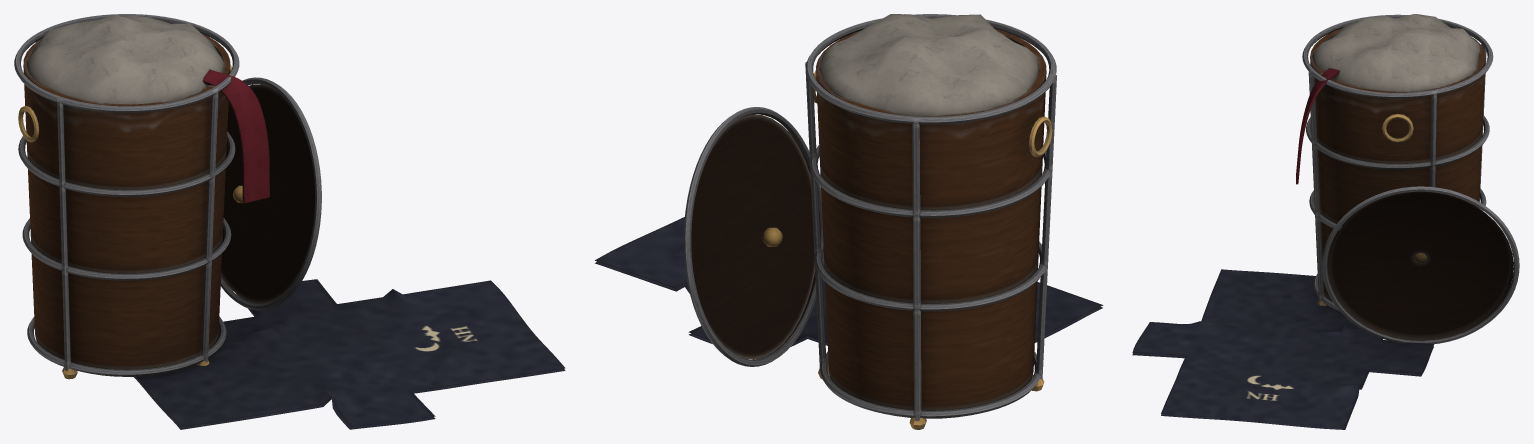
File: LaundryHamper.fbx
3 renders of one model, left to right at view 1: azimuth 30°, elevation 25°; view 2: azimuth 150°, elevation 25°; view 3: azimuth 270°, elevation 25°, orthographic. The views are drawn at different scales.
Parts seen in each view (by area): view 1: LaundryHamper; view 2: LaundryHamper; view 3: LaundryHamper.
Boxes of the visible parts, <box> form: LaundryHamper: <box>14,14,565,429</box>; LaundryHamper: <box>595,14,1103,429</box>; LaundryHamper: <box>1132,14,1519,429</box>.
Size of the model in its own units: 371 by 260 by 339.
